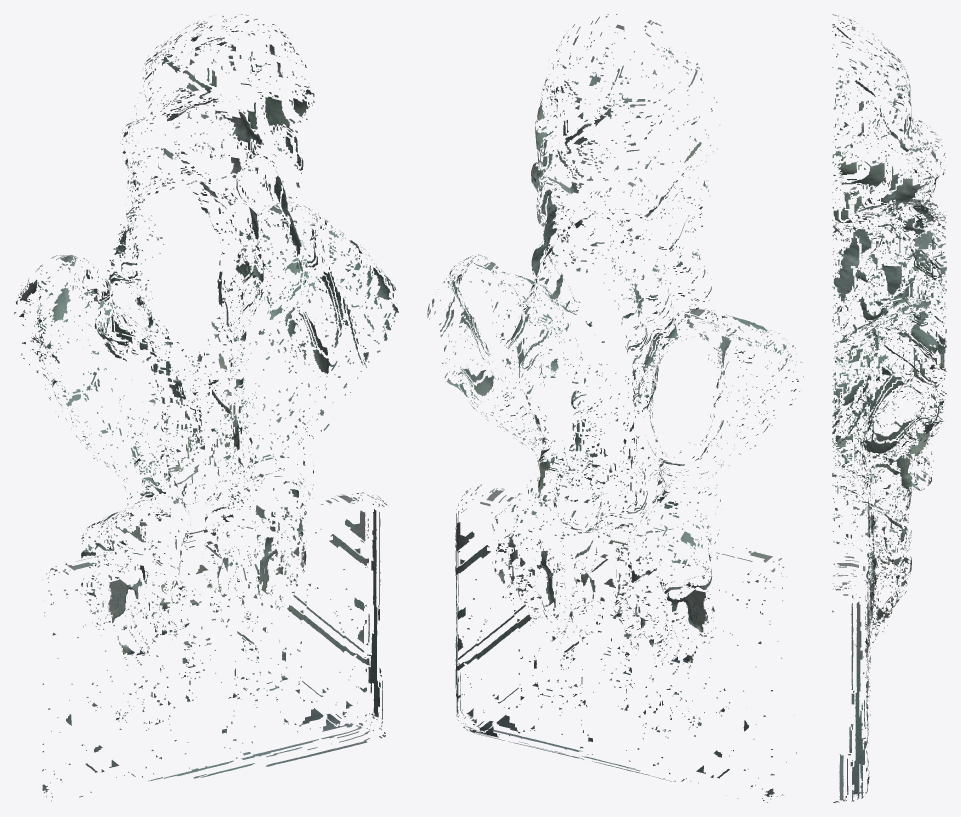
Rendered from cthulhu17_material_0.020_lev1.glb.
The picture shows the model from 3 angles, left to right: view 1: azimuth 30°, elevation 25°; view 2: azimuth 150°, elevation 25°; view 3: azimuth 270°, elevation 25°; orthographic projection. The views are drawn at different scales.
Visible parts, largest first — view 1: cthulhu17_material_0.020_lev1; view 2: cthulhu17_material_0.020_lev1; view 3: cthulhu17_material_0.020_lev1.
Part boxes in pixels (left/top/right/bottom): cthulhu17_material_0.020_lev1: left=14, top=14, right=398, bottom=801; cthulhu17_material_0.020_lev1: left=427, top=14, right=803, bottom=802; cthulhu17_material_0.020_lev1: left=832, top=14, right=946, bottom=802.
Bounding box in the file's own units: 2.56 × 5.31 × 0.7782.
